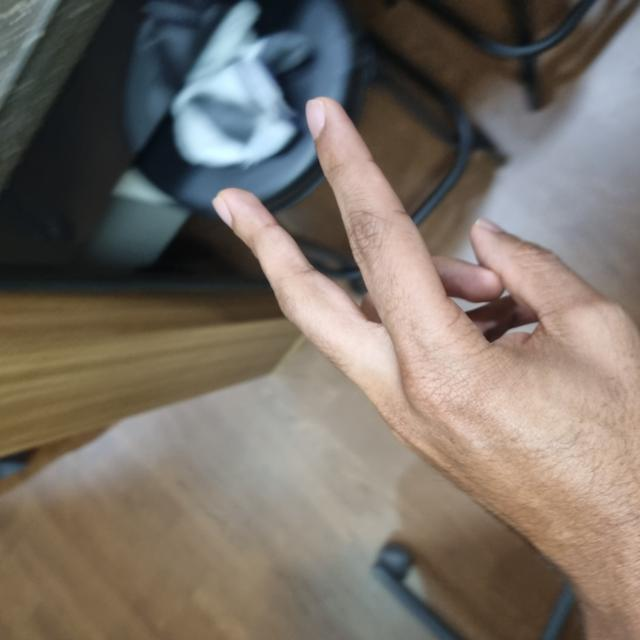Scissors: (5, 217, 541, 639)
